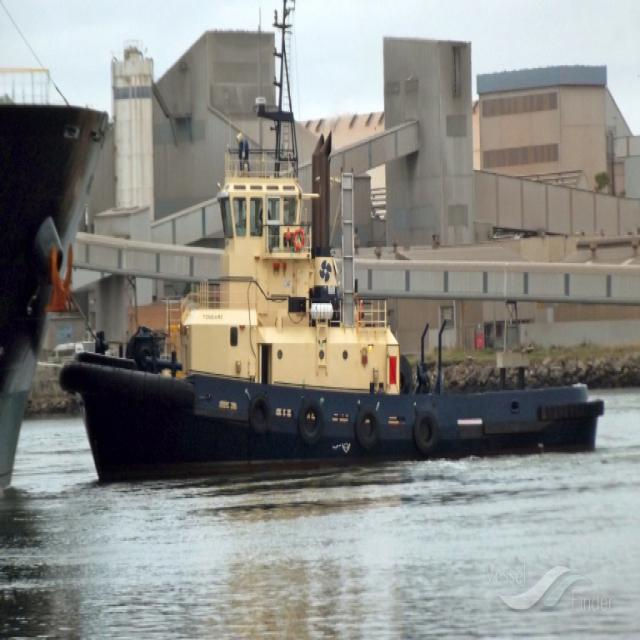tugboat: (62, 168, 603, 456)
